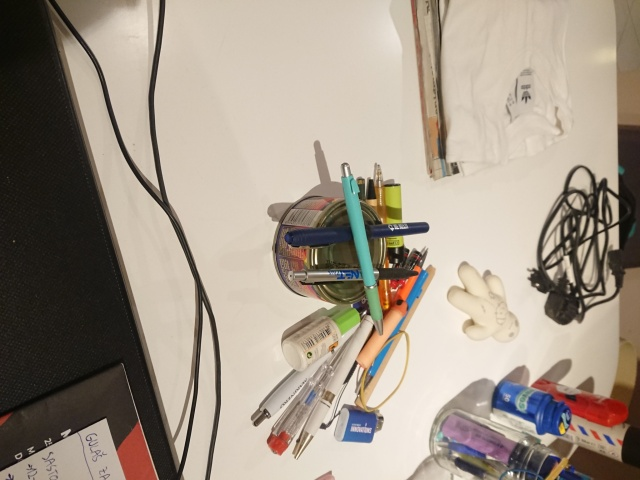Giana Tuna Salad Mexico 185g: (269, 193, 389, 307)
